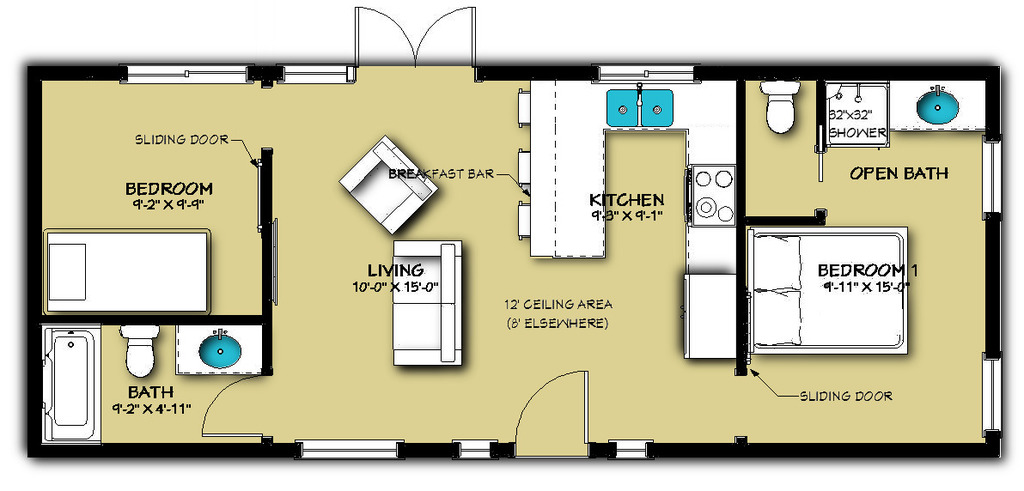bed: (749, 224, 914, 365), (34, 227, 214, 311)
door: (353, 4, 483, 84), (509, 369, 596, 458), (194, 371, 278, 442)
kitchen_bar: (516, 79, 610, 264)
large_sink: (120, 321, 163, 382), (758, 77, 797, 141)
large_sofa: (392, 239, 463, 368)
small_sink: (176, 325, 271, 378), (890, 74, 978, 126)
small_sofa: (325, 134, 445, 233)
tub: (32, 323, 109, 447)
twin_sink: (597, 83, 677, 129)
window: (971, 138, 1012, 217), (594, 61, 711, 87), (123, 60, 250, 81), (296, 439, 408, 461), (979, 350, 1005, 428), (281, 62, 357, 88), (613, 434, 658, 466), (451, 440, 500, 464)
